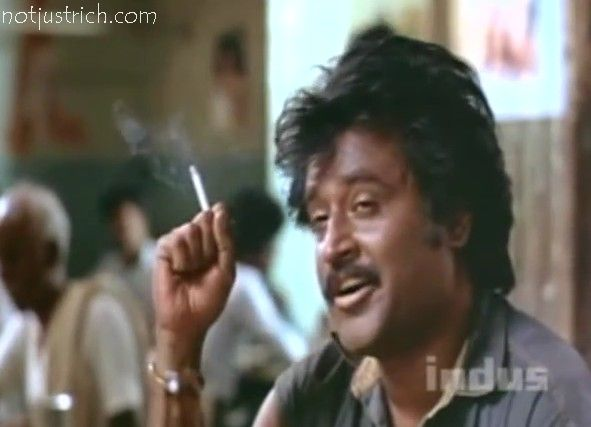cigarette: (183, 160, 222, 220)
